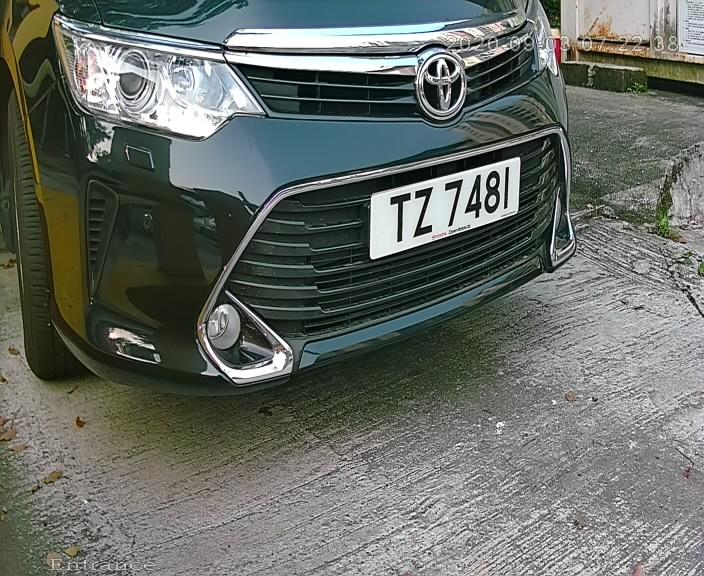Car: (13, 3, 620, 438)
License Plate: (368, 152, 519, 265)
